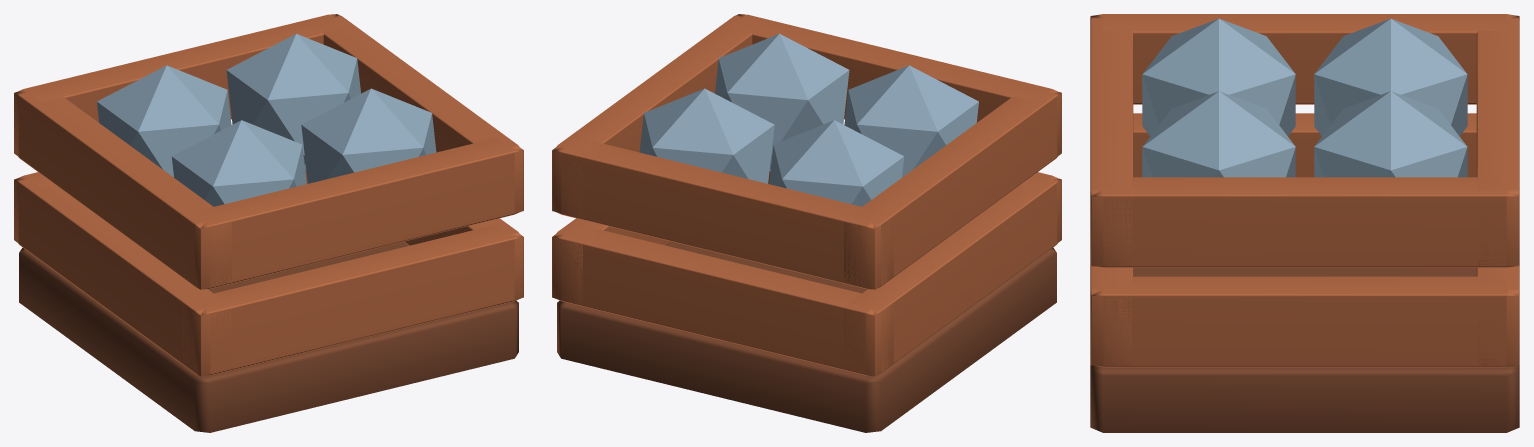
File: ore-crate.glb
3 renders of one model, left to right at view 1: azimuth 30°, elevation 25°; view 2: azimuth 150°, elevation 25°; view 3: azimuth 270°, elevation 25°, orthographic. The views are drawn at different scales.
Visible parts, largest first — view 1: Crate base.006, Slatted crate.049, Slatted crate.051, Slatted crate.050, Slatted crate.048, Crate contents.023, Crate contents.022, Crate contents.021, Slatted crate.054, Crate contents.020, Slatted crate.055, Slatted crate.052 (+1 smaller); view 2: Crate base.006, Slatted crate.053, Slatted crate.055, Slatted crate.050, Slatted crate.048, Crate contents.021, Crate contents.020, Crate contents.023, Slatted crate.054, Crate contents.022, Slatted crate.051, Slatted crate.052 (+1 smaller); view 3: Slatted crate.052, Slatted crate.054, Crate base.006, Slatted crate.050, Crate contents.020, Crate contents.022, Crate contents.021, Crate contents.023, Slatted crate.051, Slatted crate.055, Slatted crate.049, Slatted crate.048 (+1 smaller).
Boxes of the visible parts, left/top/right/bottom form: Crate base.006: left=19, top=241, right=518, bottom=432; Slatted crate.049: left=182, top=224, right=523, bottom=376; Slatted crate.051: left=184, top=138, right=523, bottom=289; Slatted crate.050: left=14, top=92, right=231, bottom=289; Slatted crate.048: left=14, top=176, right=231, bottom=376; Crate contents.023: left=226, top=33, right=360, bottom=171; Crate contents.022: left=97, top=65, right=231, bottom=177; Crate contents.021: left=301, top=88, right=436, bottom=183; Slatted crate.054: left=312, top=14, right=523, bottom=212; Crate contents.020: left=171, top=120, right=306, bottom=206; Slatted crate.055: left=14, top=14, right=344, bottom=156; Slatted crate.052: left=404, top=218, right=523, bottom=299; Crate base.006: left=557, top=241, right=1056, bottom=432; Slatted crate.053: left=552, top=226, right=893, bottom=376; Slatted crate.055: left=552, top=138, right=893, bottom=289; Slatted crate.050: left=844, top=92, right=1061, bottom=289; Slatted crate.048: left=844, top=176, right=1061, bottom=376; Crate contents.021: left=715, top=33, right=849, bottom=171; Crate contents.020: left=844, top=65, right=978, bottom=177; Crate contents.023: left=639, top=88, right=774, bottom=183; Slatted crate.054: left=552, top=14, right=763, bottom=217; Crate contents.022: left=769, top=120, right=904, bottom=206; Slatted crate.051: left=730, top=14, right=1061, bottom=156; Slatted crate.052: left=552, top=218, right=671, bottom=304; Slatted crate.052: left=1090, top=276, right=1519, bottom=367; Slatted crate.054: left=1090, top=177, right=1519, bottom=267; Crate base.006: left=1090, top=267, right=1519, bottom=432; Slatted crate.050: left=1090, top=14, right=1519, bottom=104; Crate contents.020: left=1142, top=18, right=1295, bottom=136; Crate contents.022: left=1314, top=18, right=1467, bottom=136; Crate contents.021: left=1142, top=91, right=1295, bottom=177; Crate contents.023: left=1314, top=91, right=1467, bottom=177; Slatted crate.051: left=1090, top=15, right=1133, bottom=266; Slatted crate.055: left=1476, top=15, right=1519, bottom=266; Slatted crate.049: left=1090, top=265, right=1133, bottom=365; Slatted crate.048: left=1133, top=113, right=1476, bottom=177.
Bounding box in the file's own units: 0.9 × 0.669 × 0.9.
